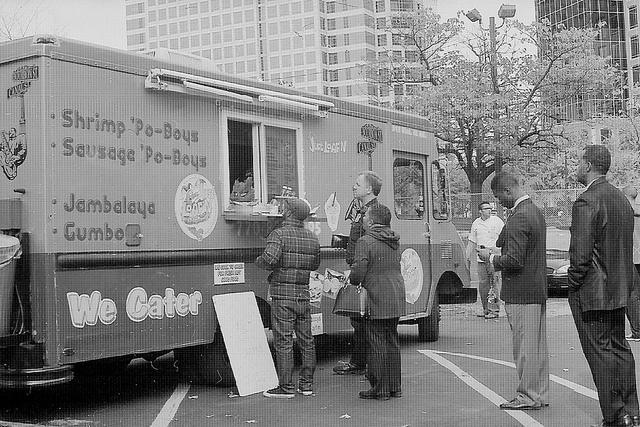car: (546, 249, 570, 299)
truck: (0, 40, 474, 414)
